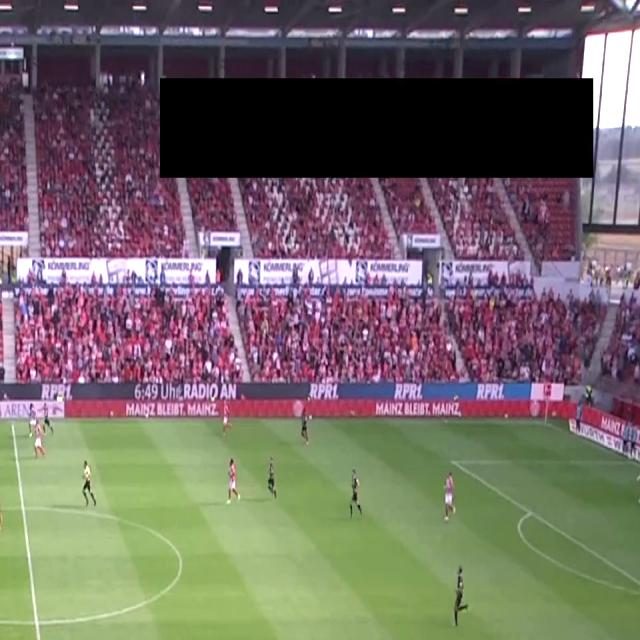referee: (76, 457, 101, 513)
soccer-player: (447, 562, 480, 634), (434, 464, 462, 527), (343, 466, 368, 522), (297, 393, 321, 447), (221, 456, 242, 511), (262, 456, 284, 505), (31, 411, 52, 462), (0, 480, 7, 535)
